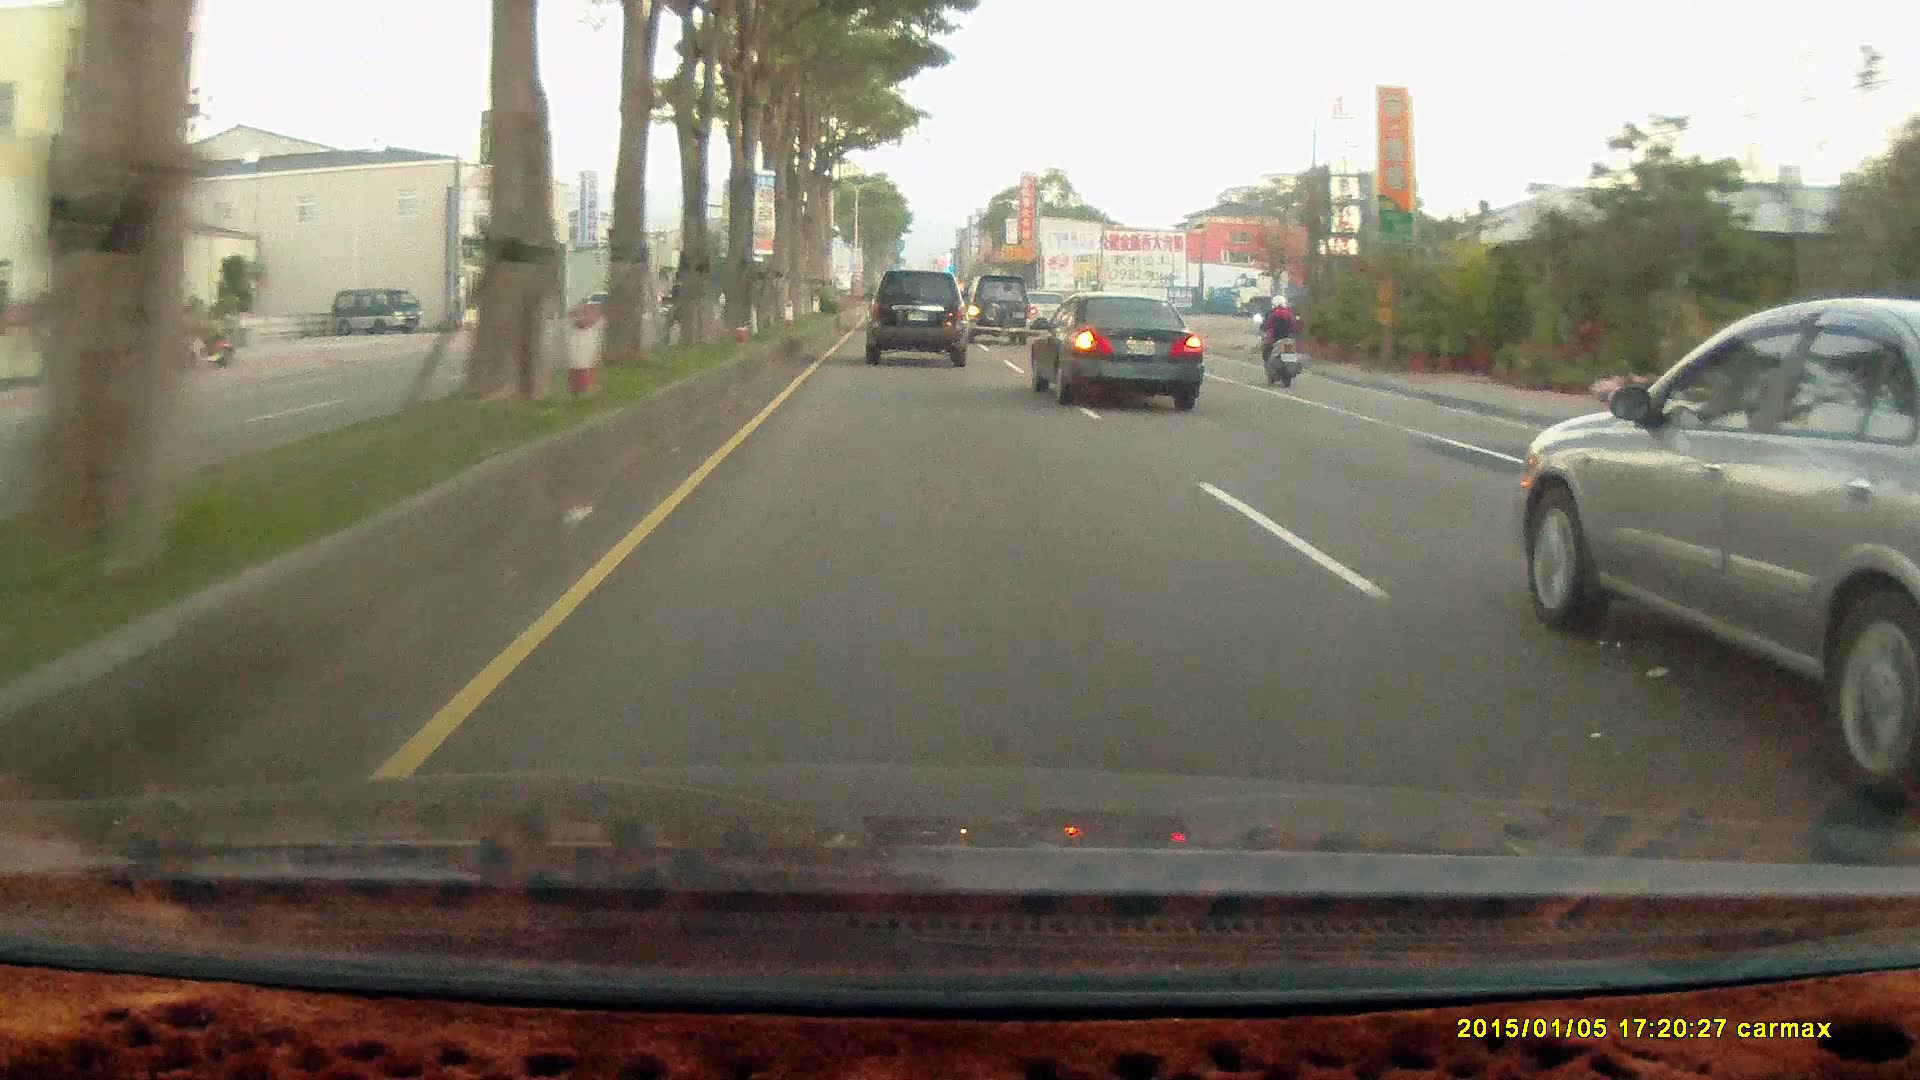rider: (1248, 287, 1313, 397), (1251, 287, 1302, 382)
vehicle: (1510, 290, 1920, 802), (1029, 289, 1208, 408), (1029, 291, 1202, 412), (1233, 268, 1446, 319), (865, 265, 970, 365), (861, 268, 967, 366), (961, 271, 1032, 346), (333, 282, 433, 331), (330, 286, 419, 332)
